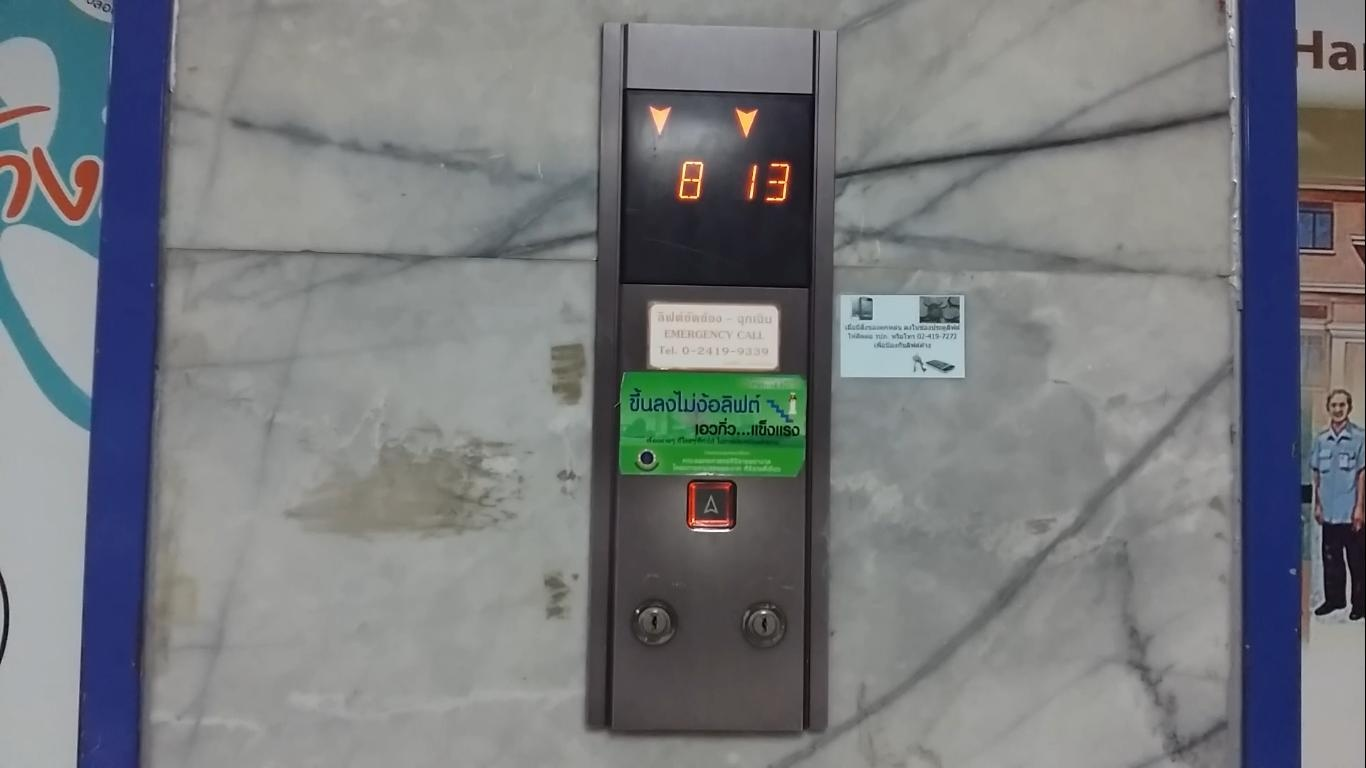keyhole: (741, 599, 788, 650), (631, 599, 679, 647)
led: (615, 85, 819, 291)
up: (683, 476, 741, 535)
